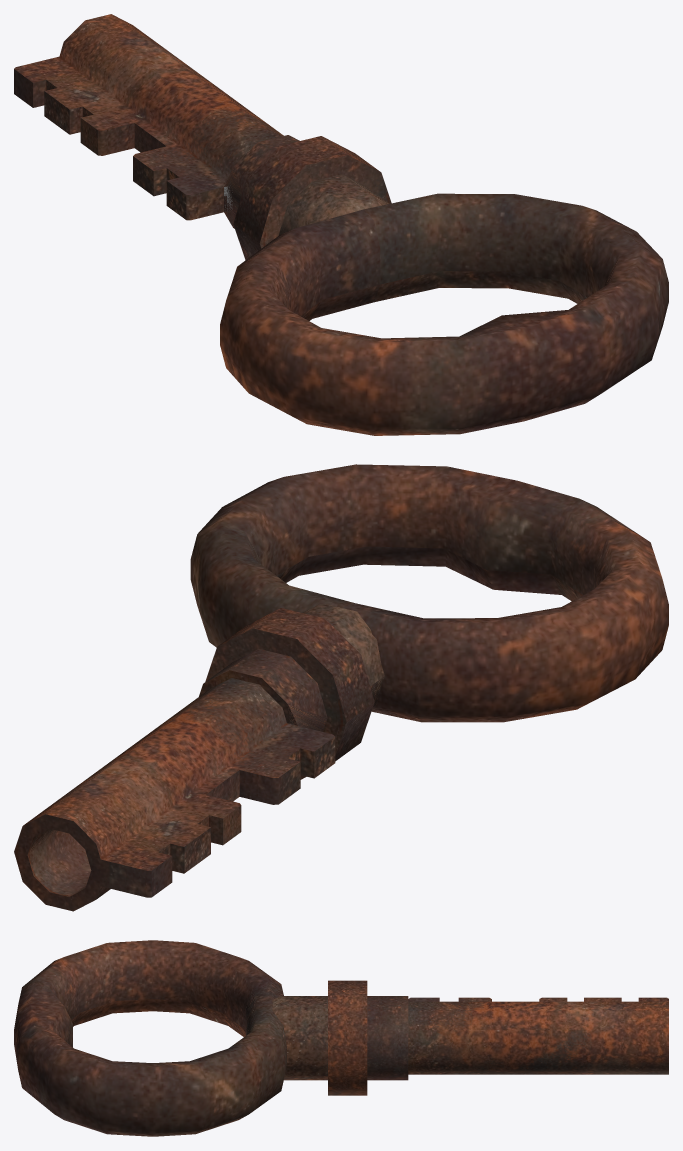
File: CleMedievale.fbx
3 views of the same model, one above another, from view 1: azimuth 30°, elevation 25°; view 2: azimuth 150°, elevation 25°; view 3: azimuth 270°, elevation 25° (orthographic). The views are drawn at different scales.
Parts seen in each view (by area): view 1: CleMedievale; view 2: CleMedievale; view 3: CleMedievale.
Boxes of the visible parts, x1,y1,x2,y2 form: CleMedievale: [14, 14, 668, 435]; CleMedievale: [14, 464, 668, 911]; CleMedievale: [14, 940, 668, 1136].
Size of the model in its own units: 3.9 by 1.25 by 7.45.
Materials: 1 (1 with a texture image).
